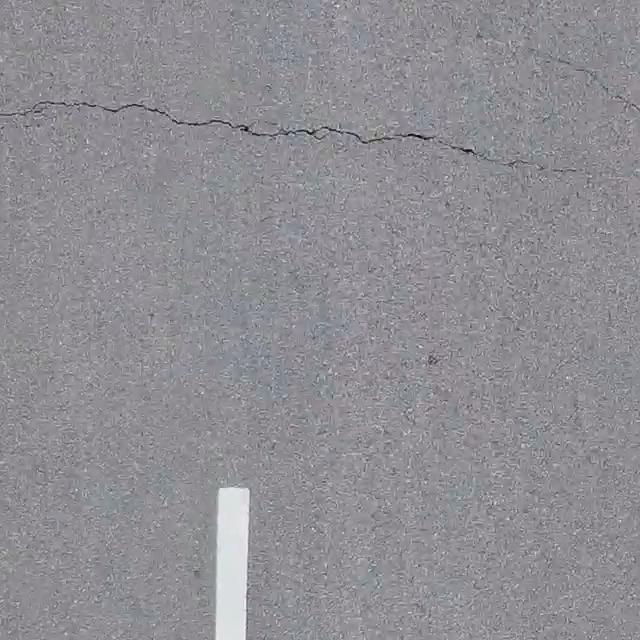GRIETA: (0, 100, 576, 172), (530, 49, 639, 114)
